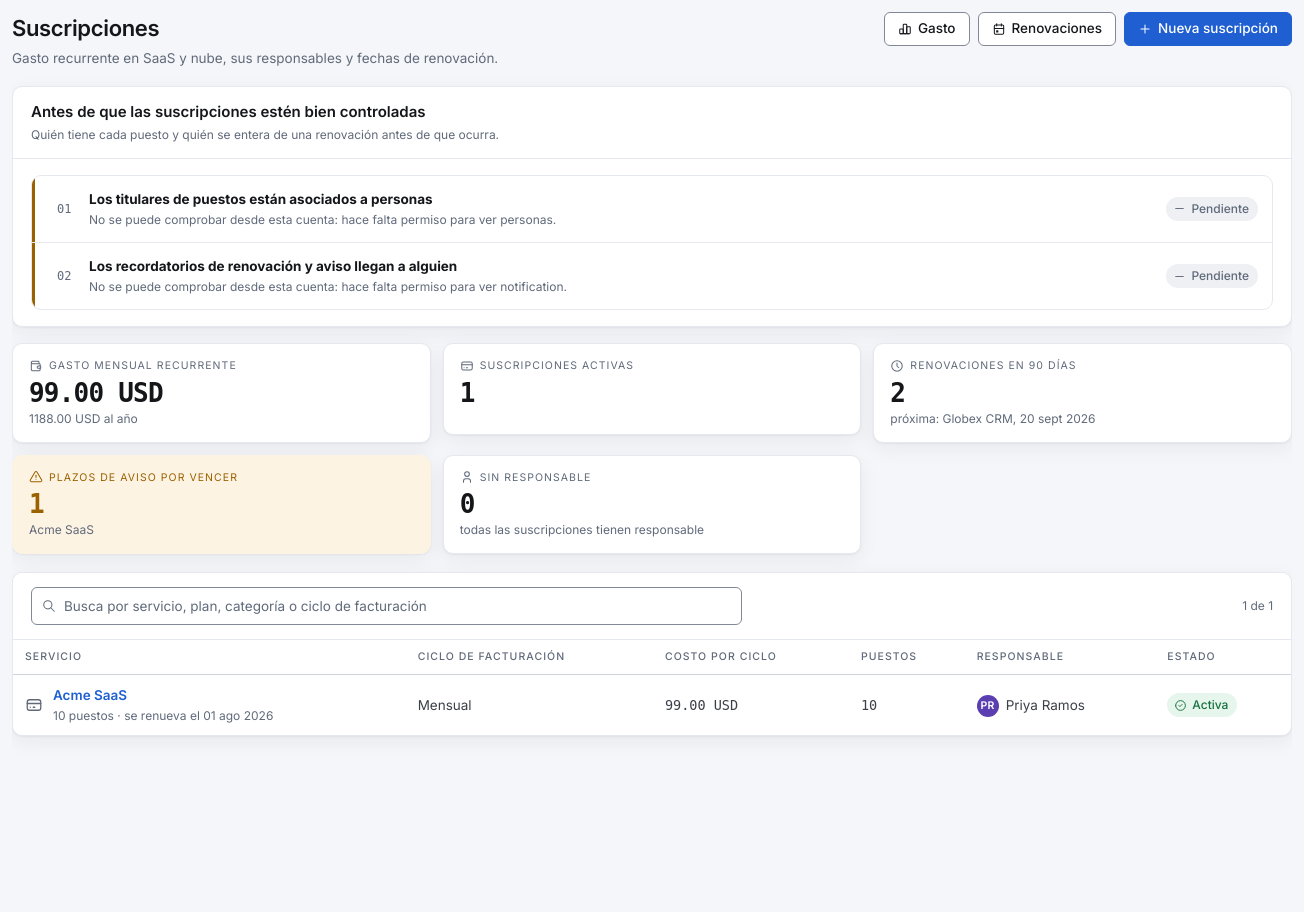
Test case: the subscriptions register in Spanish › finds a row by the cycle as it is worded on screen
Expected: the link "Acme SaaS" is shown, [53,687,127,703]
In the field named "Buscar suscripciones": (386, 606) [31,587,742,625], type "mensual"
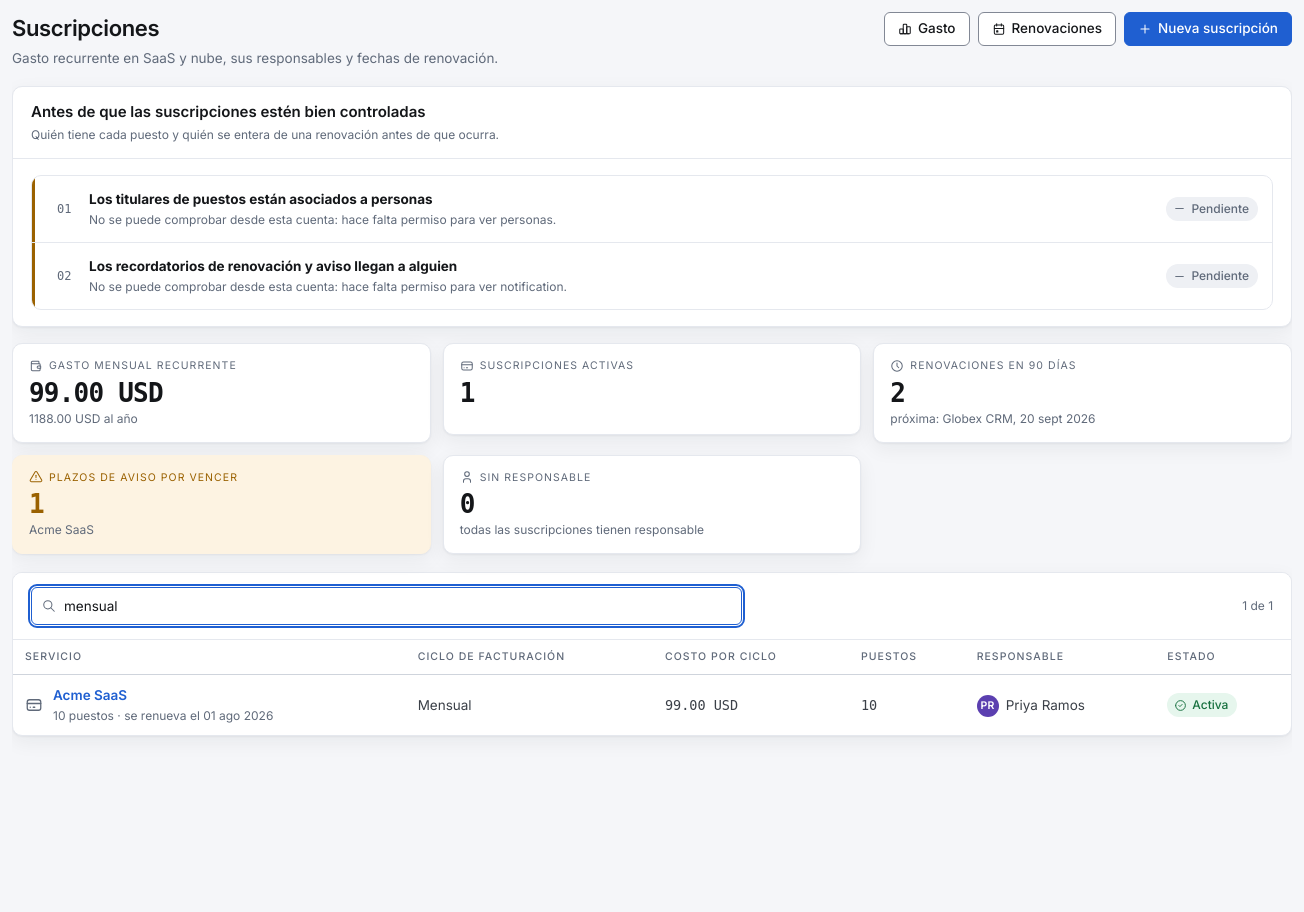
Expected: the link "Acme SaaS" is shown, [53,687,127,703]
Replace the text in the field named "Buscar suscripciones" with "trimestral": (386, 606) [31,587,742,625]
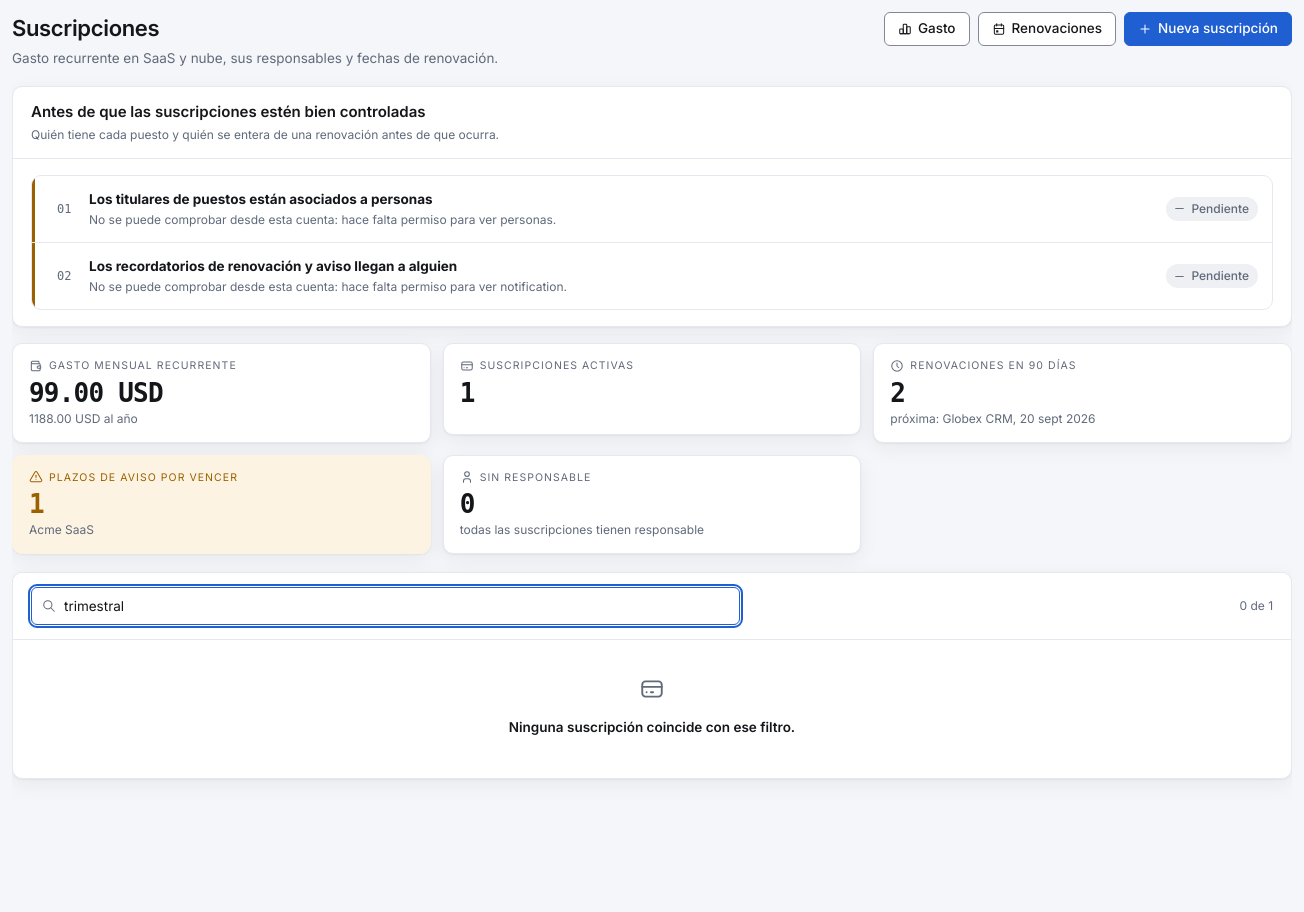
Expected: the text "Ninguna suscripción coincide con ese filtro." is shown, [509,719,795,735]
